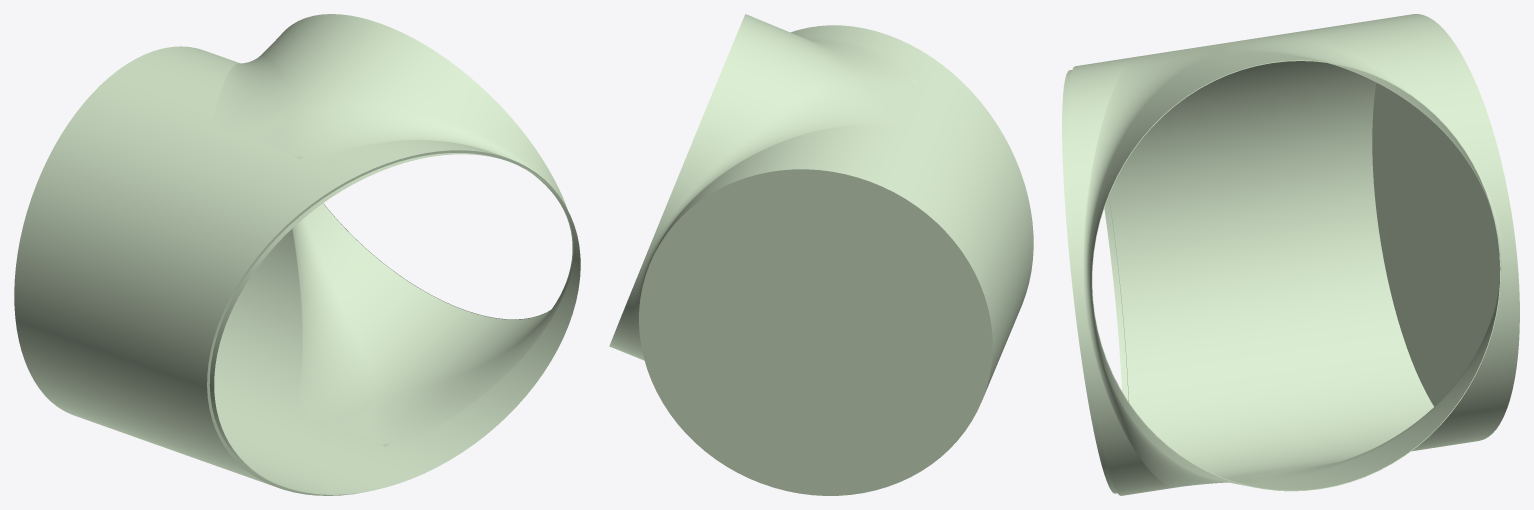
File: Joint_2_2.fbx
The picture shows the model from 3 angles, left to right: view 1: azimuth 30°, elevation 25°; view 2: azimuth 150°, elevation 25°; view 3: azimuth 270°, elevation 25°; orthographic projection. The views are drawn at different scales.
Visible parts, largest first — view 1: Joint_2.015; view 2: Joint_2.015; view 3: Joint_2.015.
Part boxes in pixels (x1=…): Joint_2.015: x1=14, y1=14, x2=580, y2=495; Joint_2.015: x1=609, y1=14, x2=1033, y2=495; Joint_2.015: x1=1062, y1=14, x2=1519, y2=495.
Bounding box in the file's own units: 15.66 × 13.31 × 12.3.
